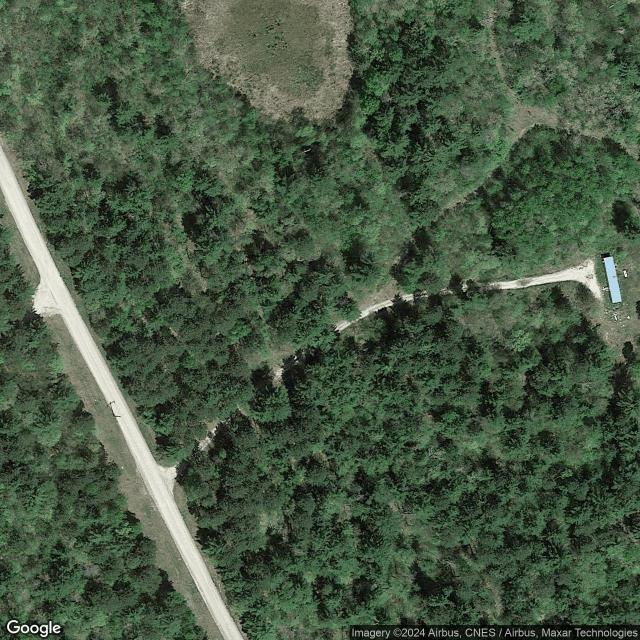Propane: (622, 268, 629, 279)
